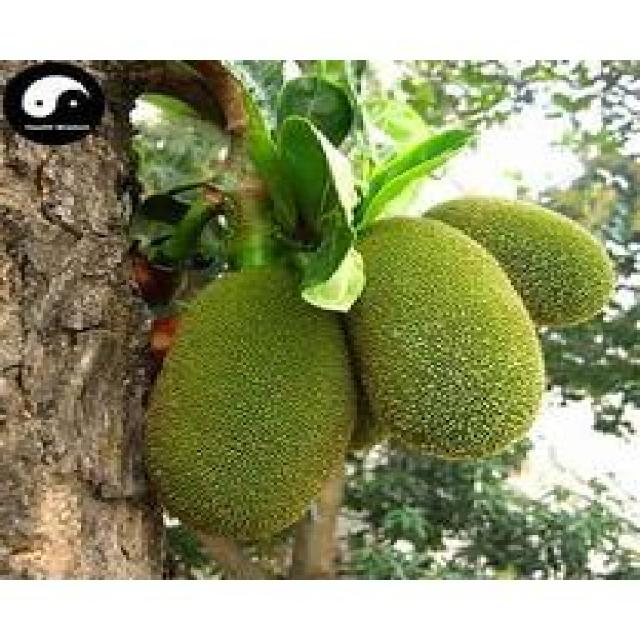Fruit: (326, 182, 622, 482), (127, 250, 376, 555)
